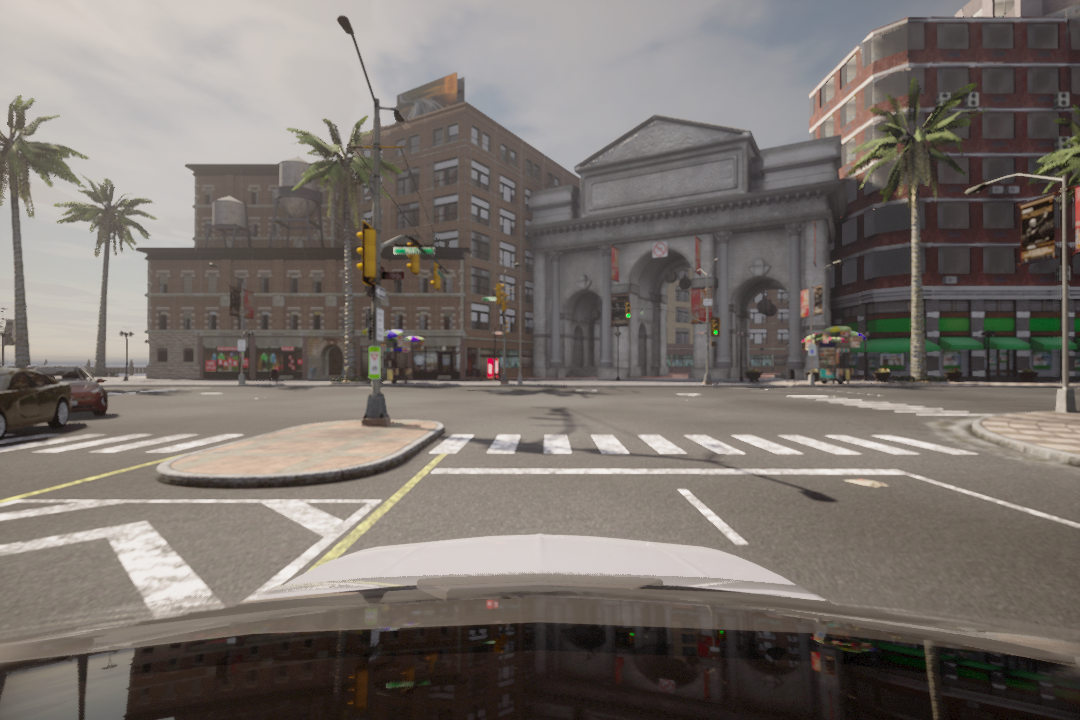TrafficLight: (711, 315, 720, 341), (623, 303, 632, 319)
TrafficSign: (649, 241, 668, 258)
walkside: (431, 433, 997, 464), (2, 424, 248, 462)
